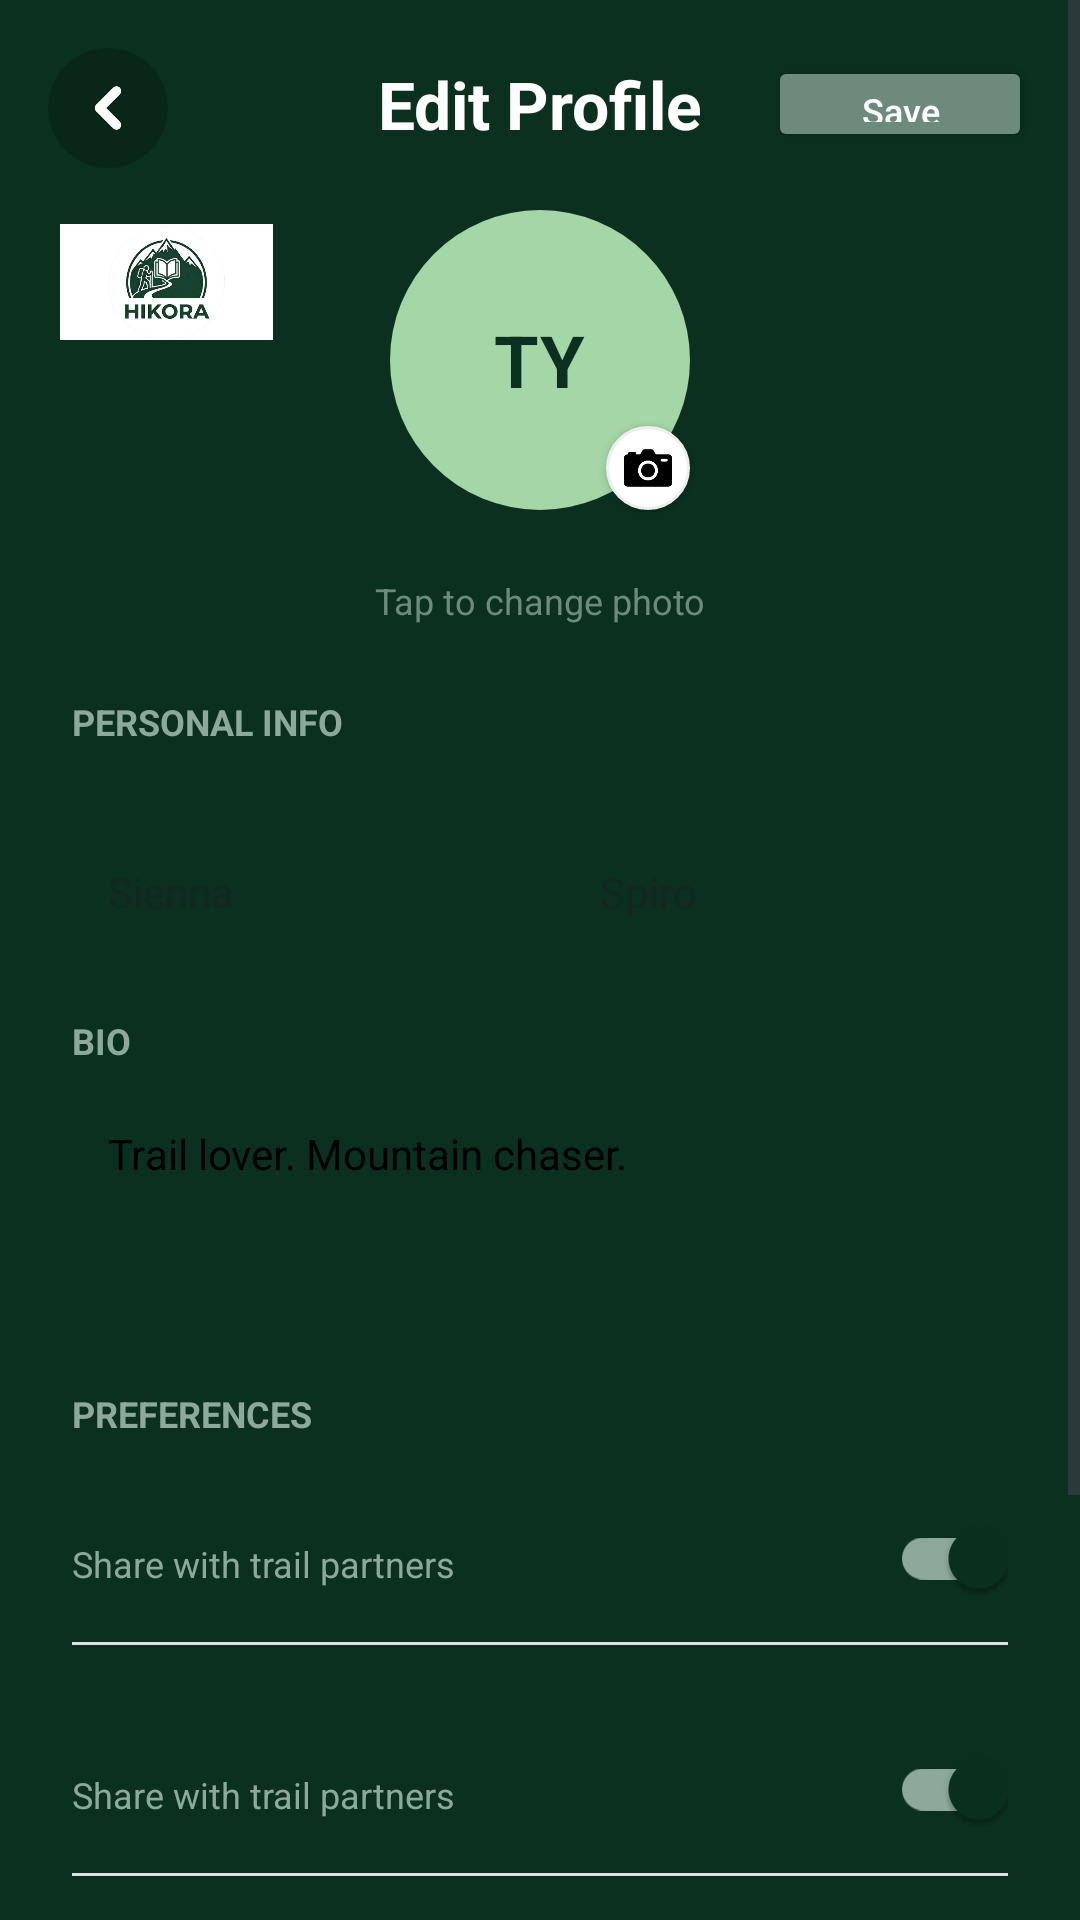

Screen size 1080 × 1920. Icon name, then its center in pixels as (x=x, y=y):
camera: (x=648, y=468)
chevron left: (x=108, y=108)
